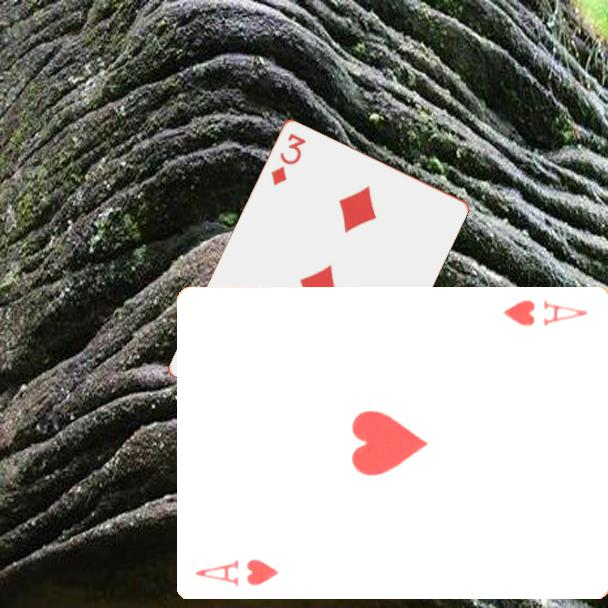d03: (267, 129, 309, 188)
h01: (192, 555, 282, 589), (500, 296, 591, 329)
